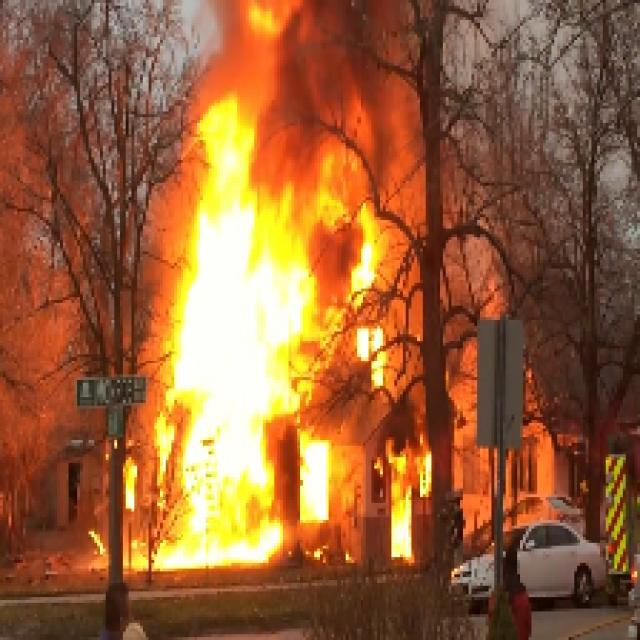fire: (179, 119, 336, 544)
